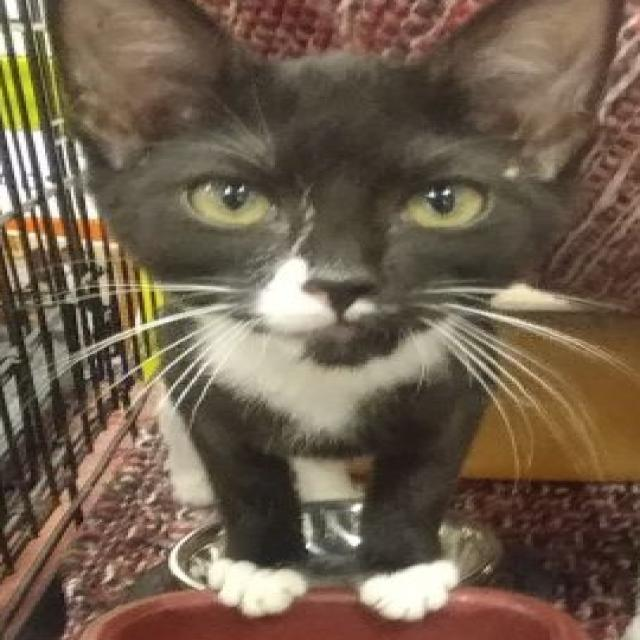Tuxedo: (28, 0, 633, 619)
